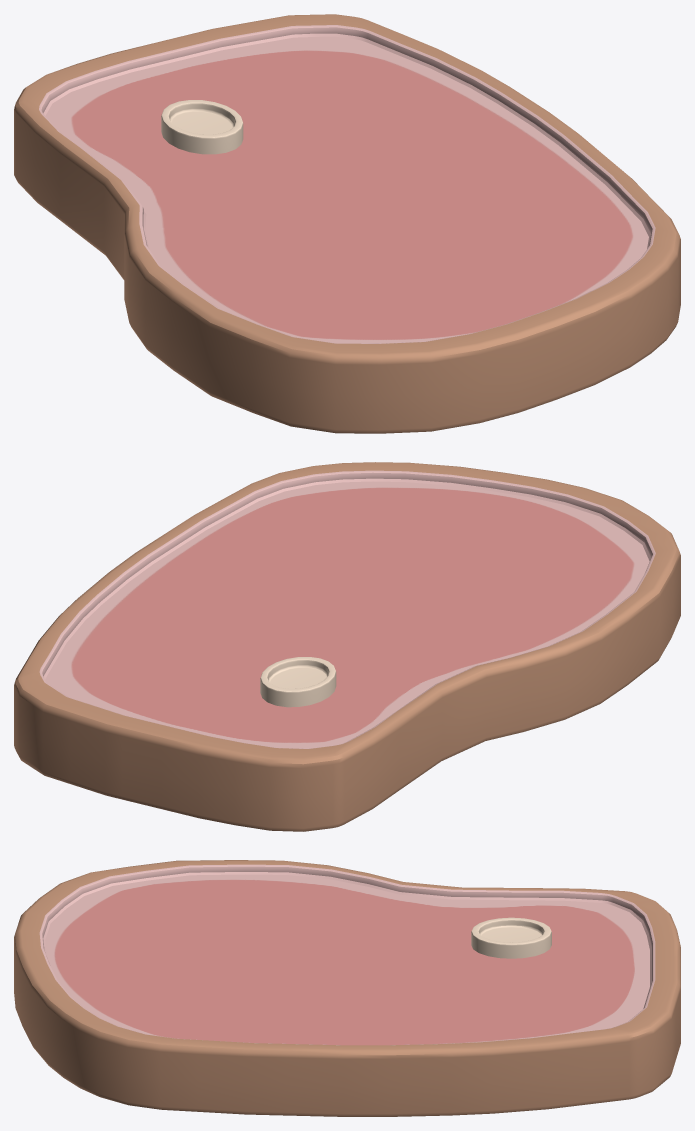
The model's file is Pork-UV.fbx.
3 views of the same model, one above another, from view 1: azimuth 30°, elevation 25°; view 2: azimuth 150°, elevation 25°; view 3: azimuth 270°, elevation 25° (orthographic). The views are drawn at different scales.
Visible parts, largest first — view 1: pCube1, pCylinder1; view 2: pCube1, pCylinder1; view 3: pCube1, pCylinder1.
Part boxes in pixels (x1,y1,x2,y2): pCube1: [14, 14, 680, 433]; pCylinder1: [161, 100, 243, 154]; pCube1: [14, 462, 680, 831]; pCylinder1: [260, 657, 336, 707]; pCube1: [14, 860, 680, 1116]; pCylinder1: [471, 917, 551, 958].
Bounding box in the file's own units: 6.24 × 1.1 × 9.02.
